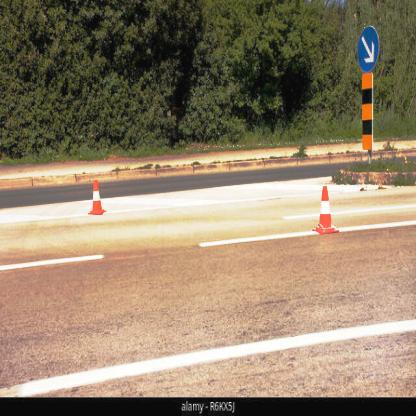Keep right: (356, 24, 383, 74)
